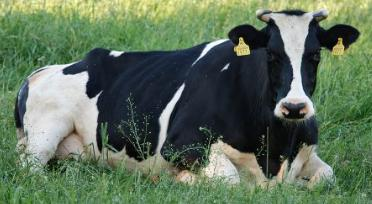cow: (13, 9, 361, 192)
